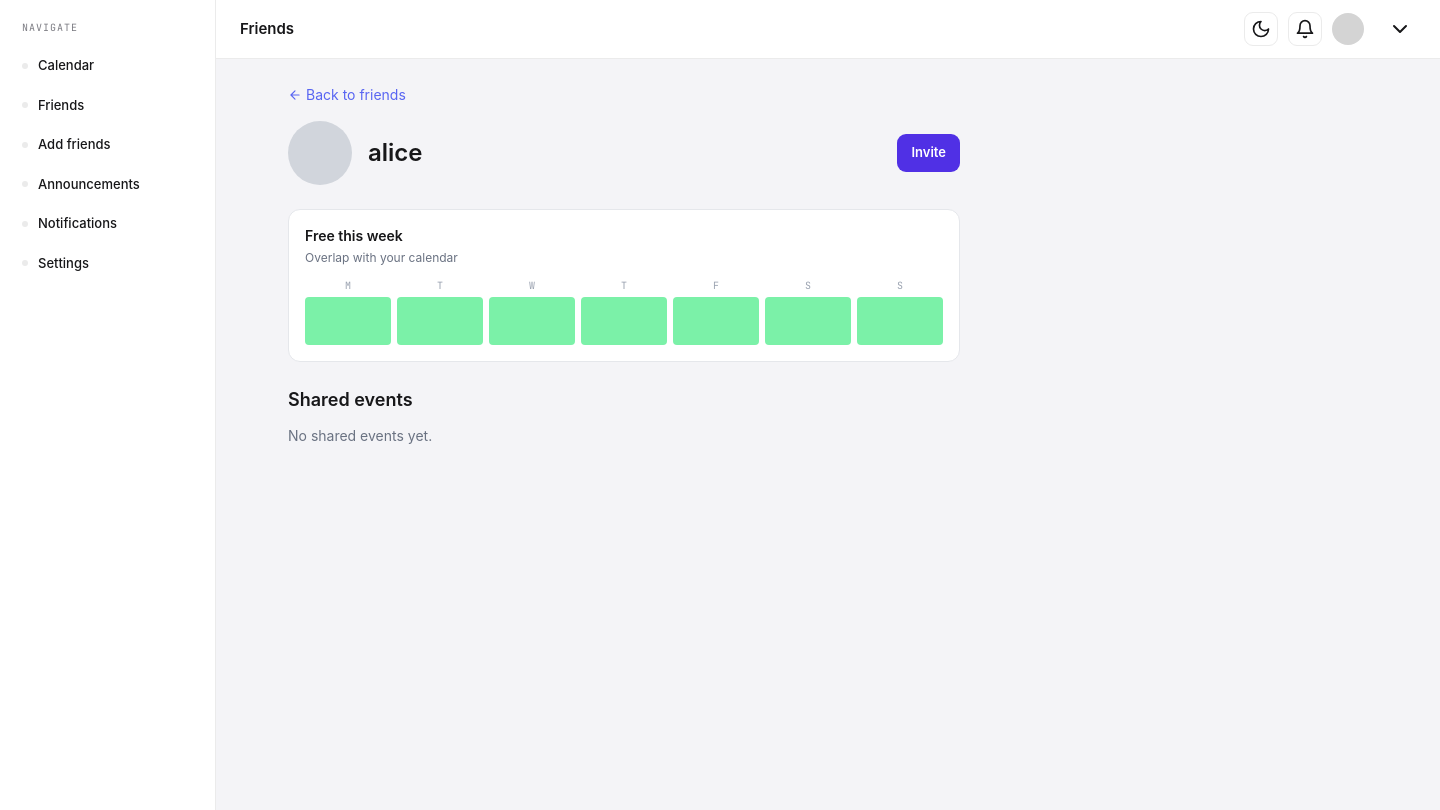
friend detail page › inviting them to something › offers your upcoming events they are not on
Click the button "Invite" at (929, 153), box [898,134,960,172]
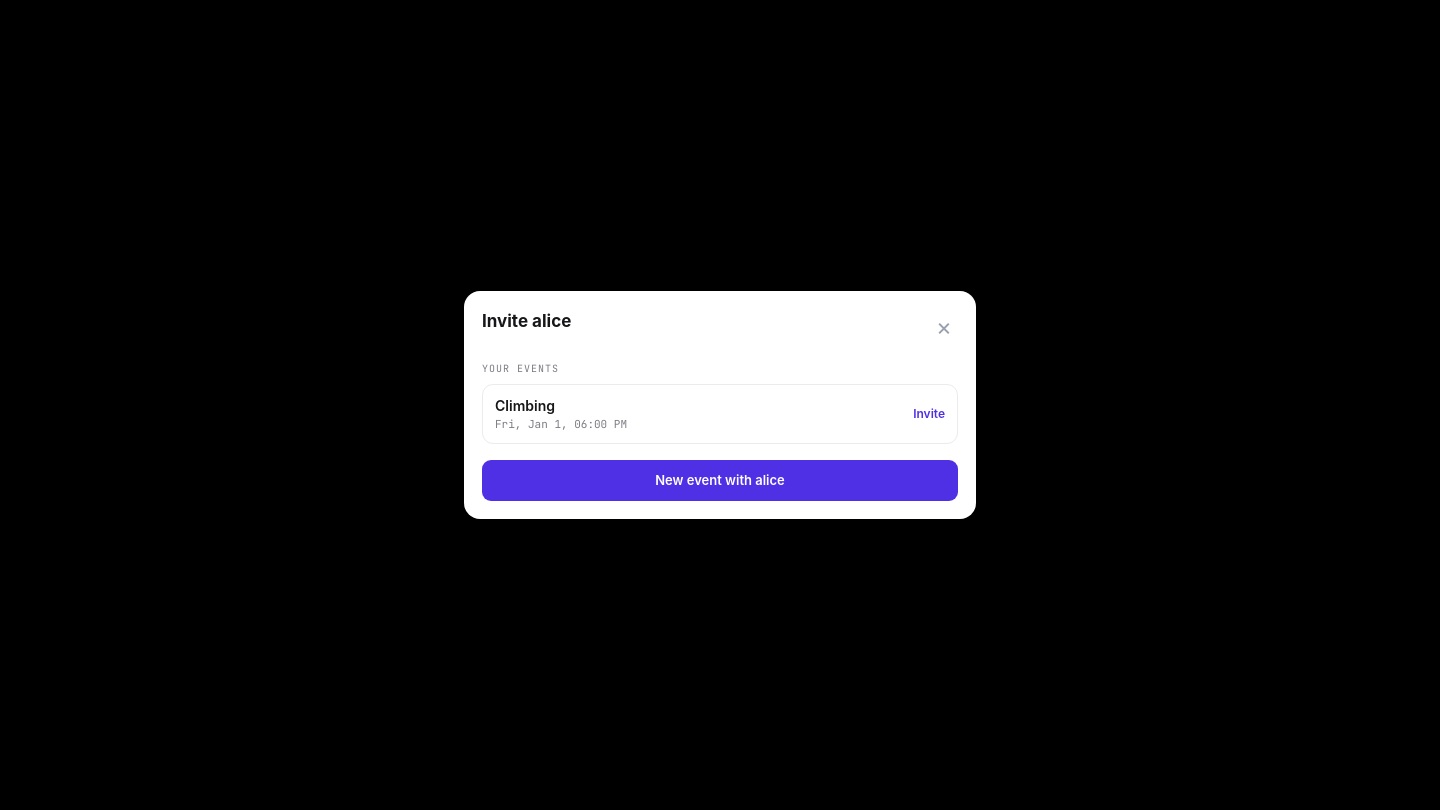
Expected: the dialog is shown, [464,291,976,519]
Expected: the text "Climbing" is shown, [495,397,555,414]
